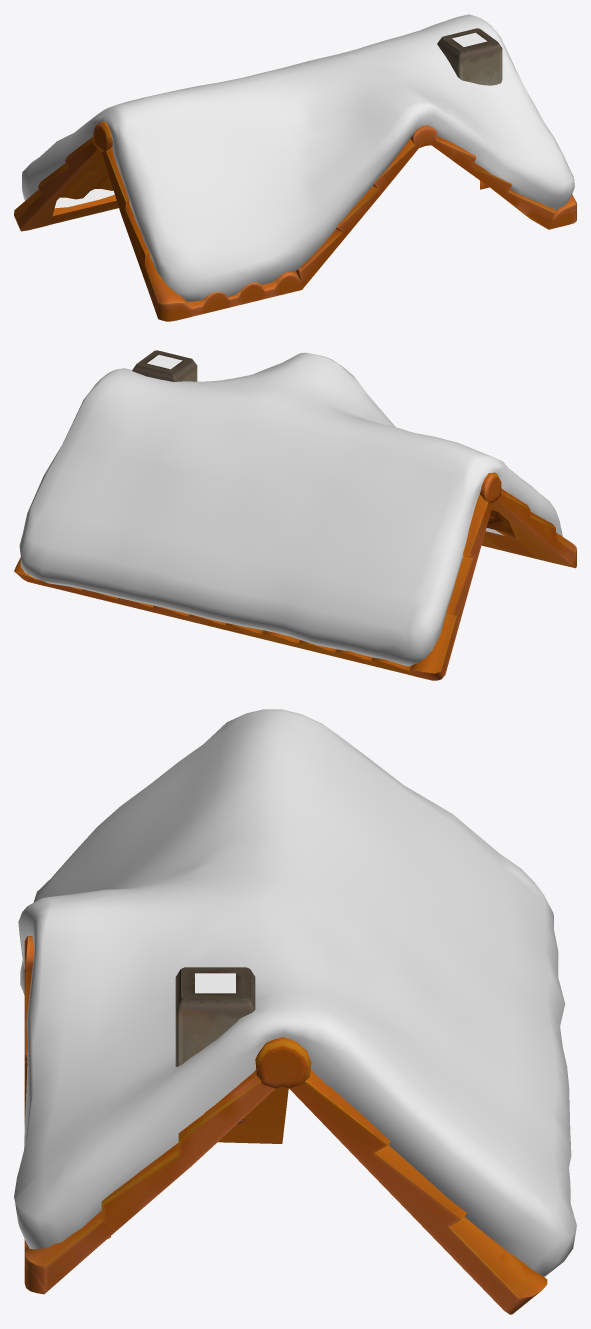
File: roof_na_tile_a.glb
The picture shows the model from 3 angles, top to bottom: view 1: azimuth 30°, elevation 25°; view 2: azimuth 150°, elevation 25°; view 3: azimuth 270°, elevation 25°; orthographic projection. The views are drawn at different scales.
Visible parts, largest first — view 1: Snow__mWinterSnow.001, ChimneyBase__mRoofA, RoofTop__mRoofA; view 2: Snow__mWinterSnow.001, ChimneyBase__mRoofA, RoofTop__mRoofA; view 3: Snow__mWinterSnow.001, ChimneyBase__mRoofA, RoofTop__mRoofA, ChimneySmoke__mChimneyhole.
Boxes of the visible parts, left/top/right/bottom form: Snow__mWinterSnow.001: left=22, top=14, right=574, bottom=301; ChimneyBase__mRoofA: left=14, top=28, right=576, bottom=321; RoofTop__mRoofA: left=93, top=121, right=112, bottom=152; Snow__mWinterSnow.001: left=19, top=352, right=562, bottom=666; ChimneyBase__mRoofA: left=14, top=350, right=576, bottom=680; RoofTop__mRoofA: left=479, top=472, right=501, bottom=503; Snow__mWinterSnow.001: left=14, top=709, right=576, bottom=1276; ChimneyBase__mRoofA: left=24, top=936, right=547, bottom=1314; RoofTop__mRoofA: left=255, top=1037, right=311, bottom=1088; ChimneySmoke__mChimneyhole: left=195, top=973, right=235, bottom=993.
Bounding box in the file's own units: 40.56 × 15.53 × 27.25.
3 materials, 1 textured.
